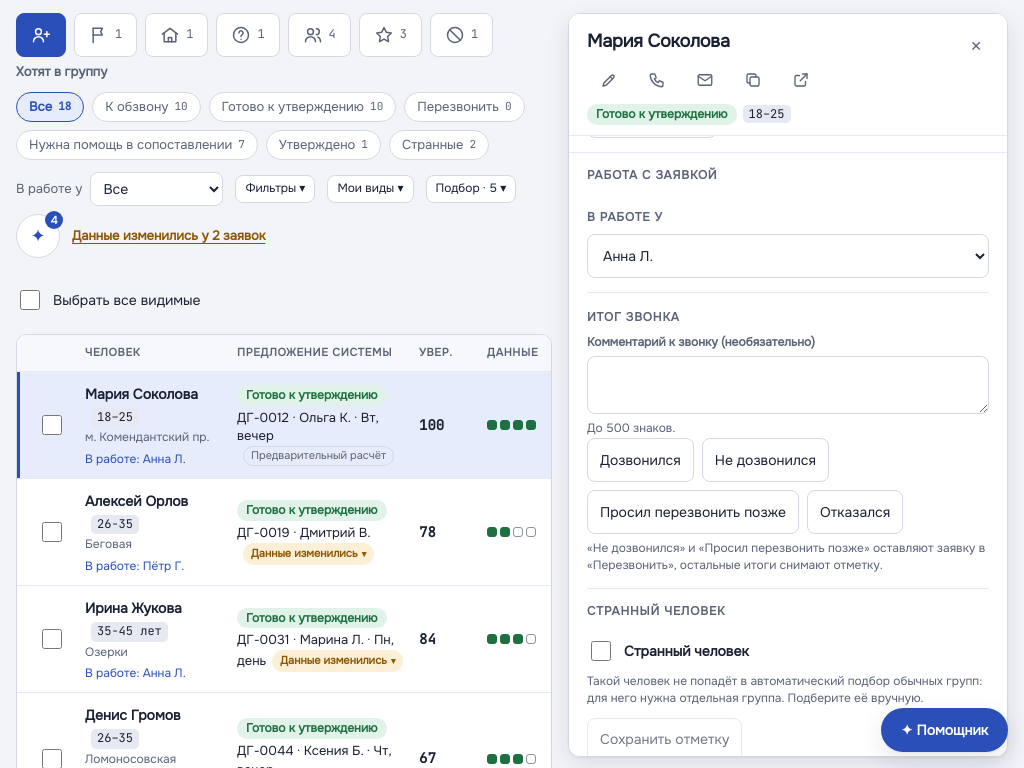
Test: Карточка заявки: итог звонка › комментарий уходит вместе с итогом, обрезанный по краям, а после успеха поле очищается
(page scrolled)
Type "  Просила набрать вечером  " into the text box labelled "Комментарий к звонку (необязательно)" at coordinates (788, 385), box [587, 356, 989, 414]
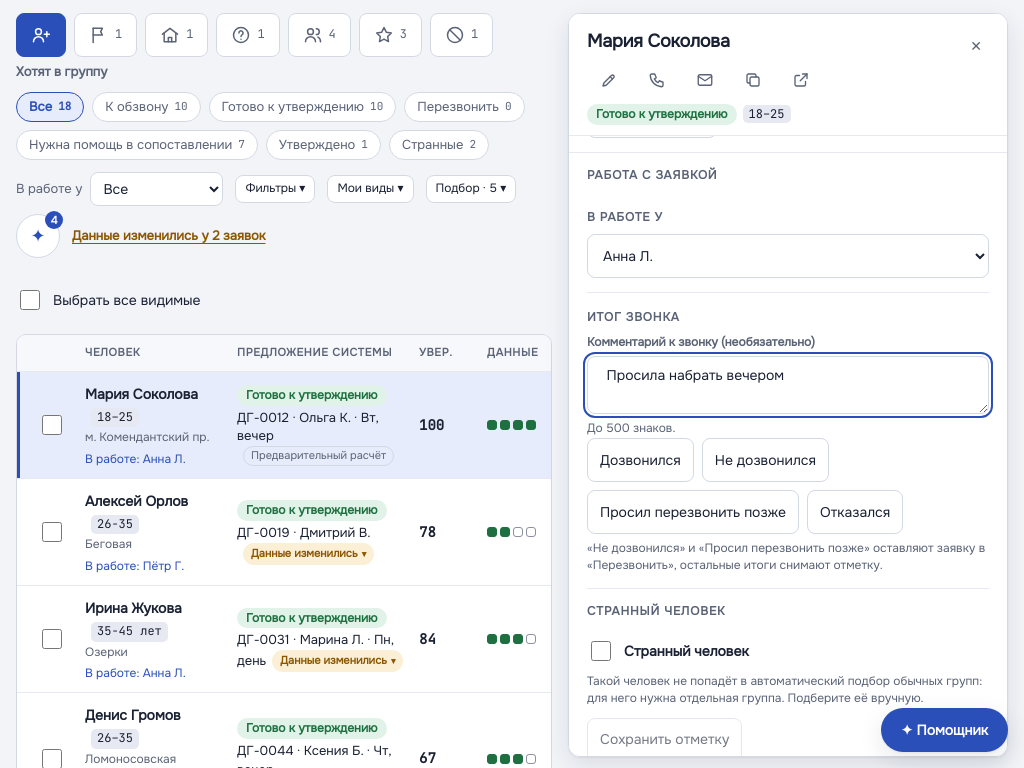
Click the button "Просил перезвонить позже" at coordinates (693, 512), box [587, 490, 799, 534]
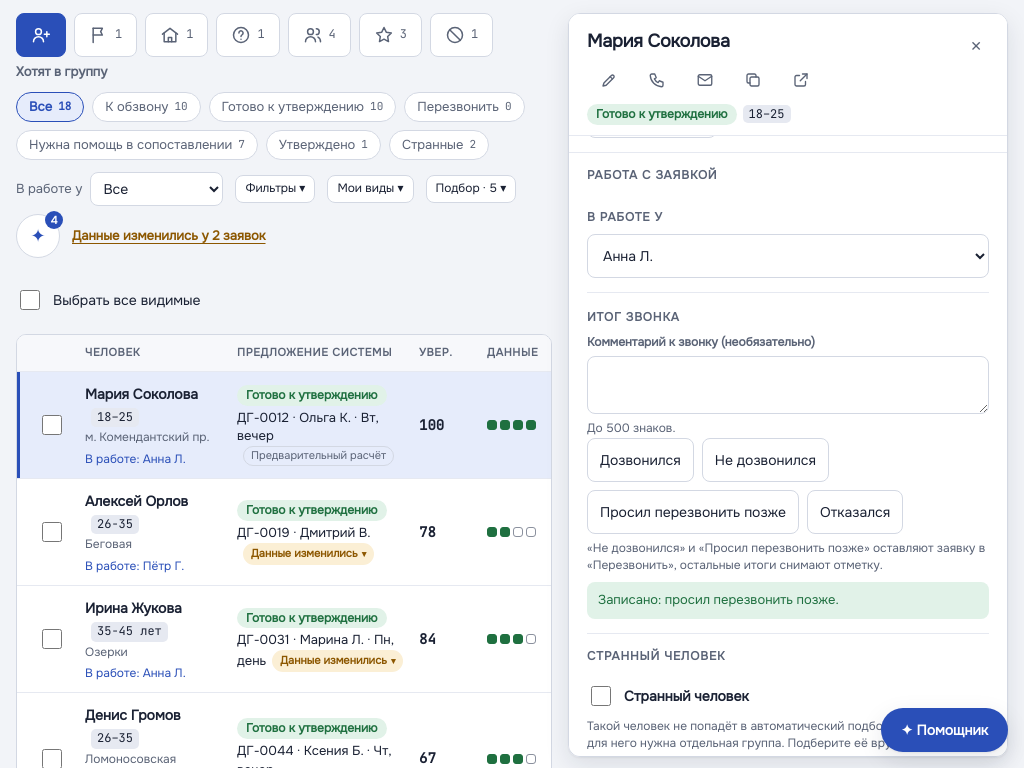
Now the text "Записано: просил перезвонить позже." is shown, box [587, 582, 989, 619]
Now the text box labelled "Комментарий к звонку (необязательно)" is empty, box [587, 356, 989, 414]
